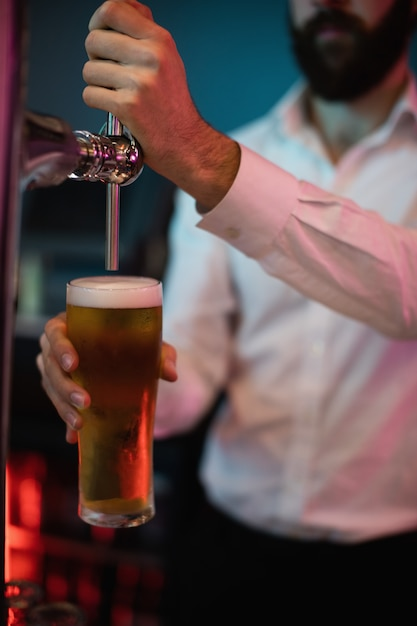alcohol: (62, 273, 164, 530)
